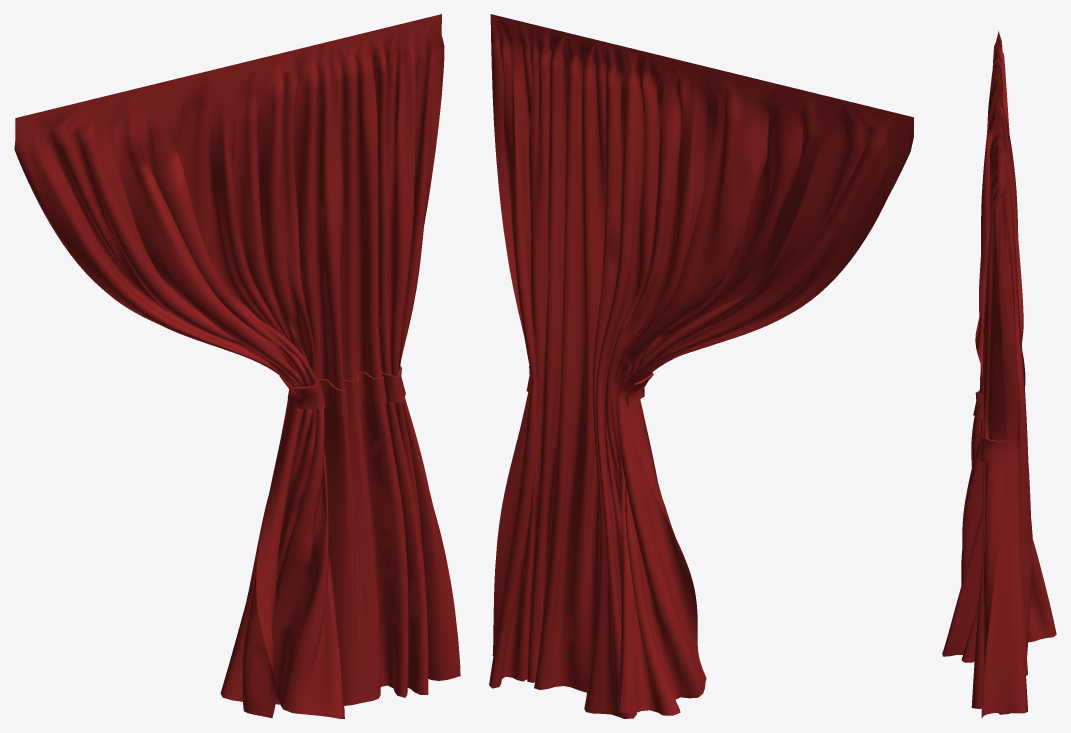
File: curtain-tied.glb
The picture shows the model from 3 angles, left to right: view 1: azimuth 30°, elevation 25°; view 2: azimuth 150°, elevation 25°; view 3: azimuth 270°, elevation 25°; orthographic projection. The views are drawn at different scales.
Size of the model in its own units: 1.74 by 2.54 by 0.4874.
